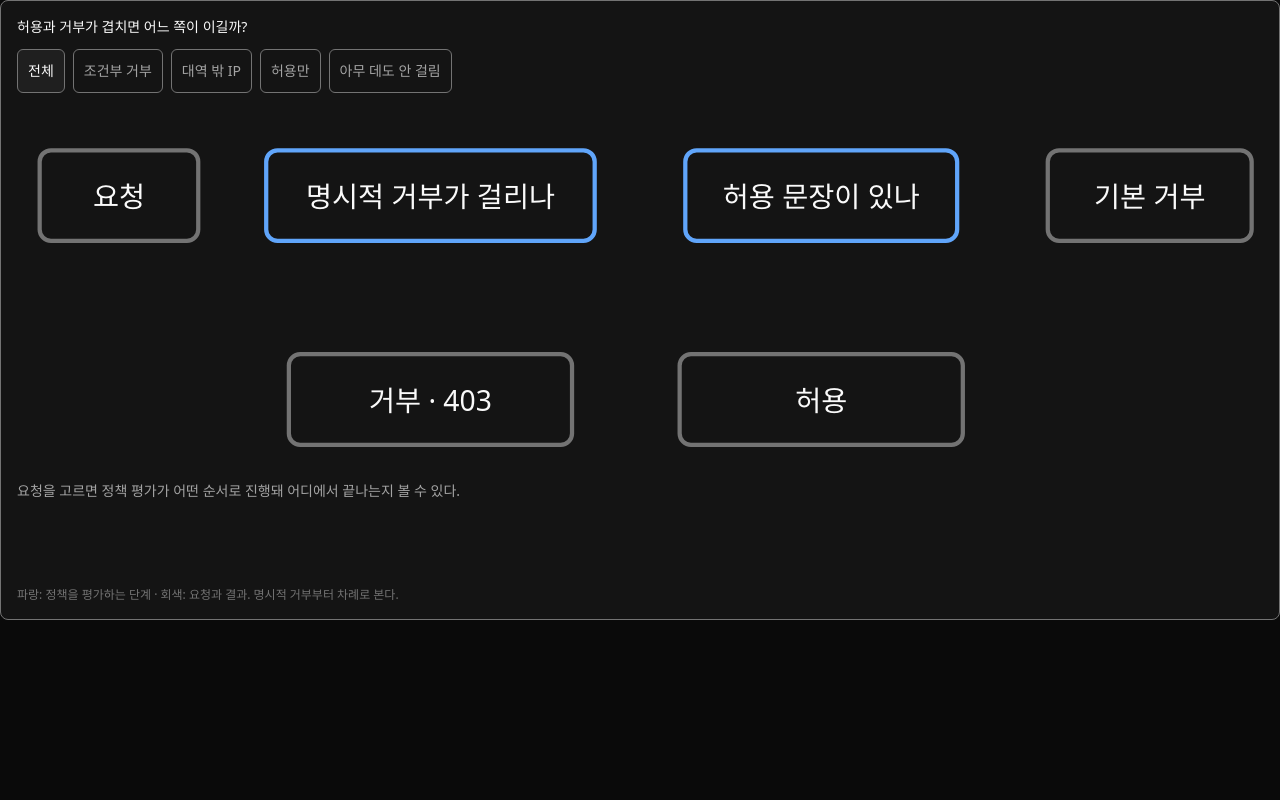
Test case: PolicyEvaluationDiagram › 가로형 (768px 이상) › 조건부 거부: 세로형과 같은 노드·경로·곁말·캡션을 보이고 곁말은 노드·경로와 겹치지 않는다
Click the button "조건부 거부". click: (118, 71)
box: x1=73 y1=49 x2=163 y2=93
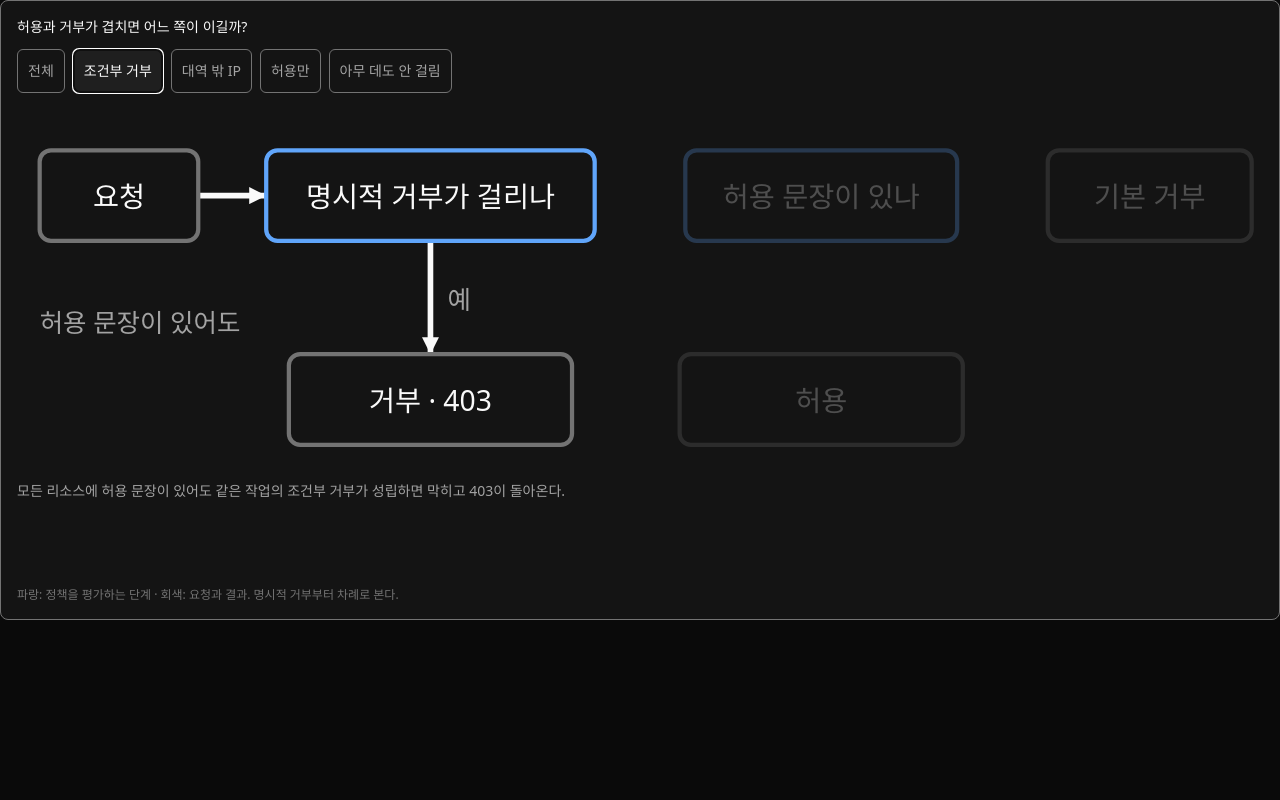
Expected: the text "모든 리소스에 허용 문장이 있어도 같은 작업의 조건부 거부가 성립하면 막히고 403이 돌아온다." is shown, x1=17 y1=482 x2=565 y2=500
